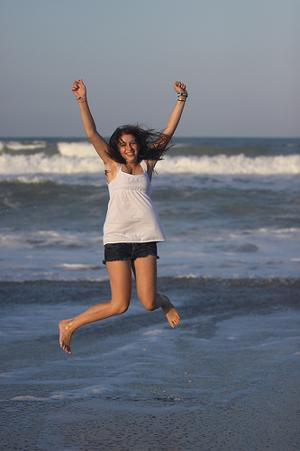person: (60, 78, 187, 354)
